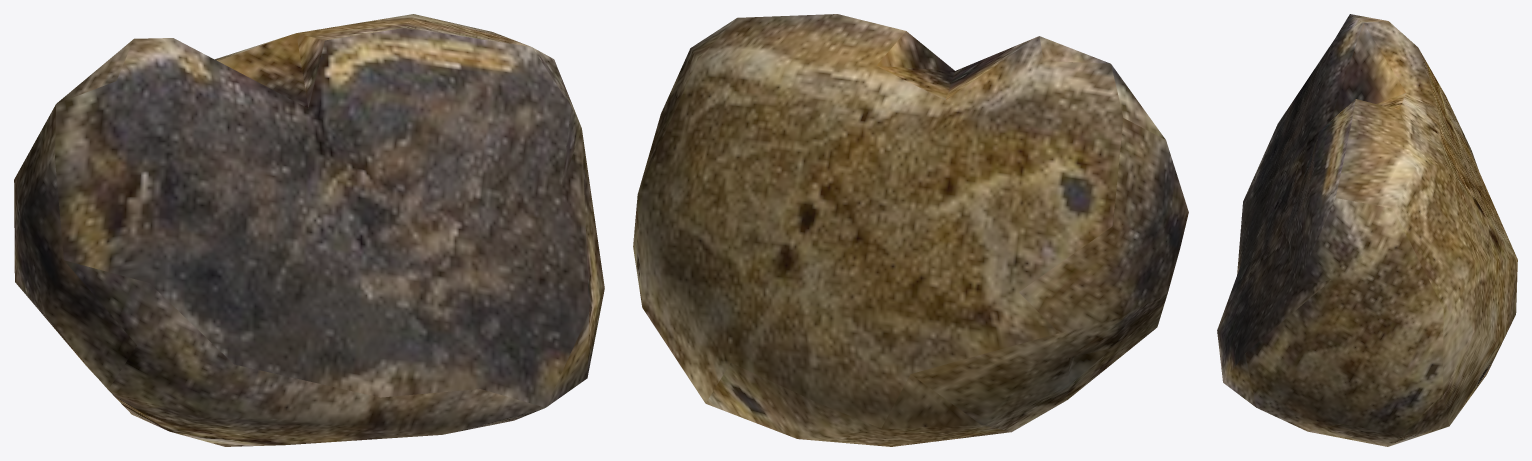
3 renders of one model, left to right at view 1: azimuth 30°, elevation 25°; view 2: azimuth 150°, elevation 25°; view 3: azimuth 270°, elevation 25°, orthographic. The views are drawn at different scales.
Visible parts, largest first — view 1: rock048_lod4; view 2: rock048_lod4; view 3: rock048_lod4.
Boxes of the visible parts, bbox=[...] form: rock048_lod4: bbox=[14, 14, 604, 446]; rock048_lod4: bbox=[633, 14, 1188, 446]; rock048_lod4: bbox=[1217, 14, 1517, 446].
Bounding box in the file's own units: 1 × 0.7645 × 0.6732.
1 material, 1 textured.
